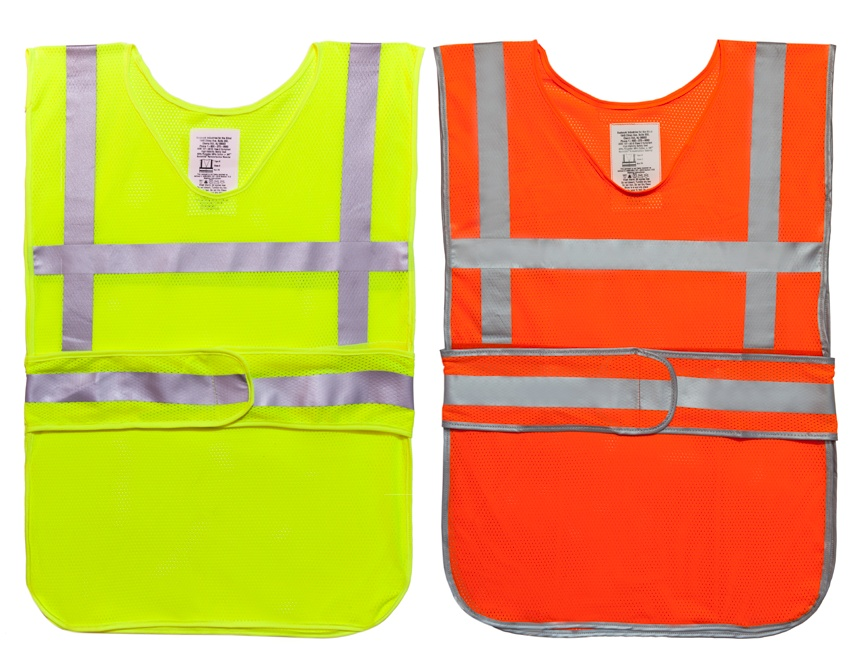safety vest: (433, 35, 849, 634), (25, 41, 414, 626)
